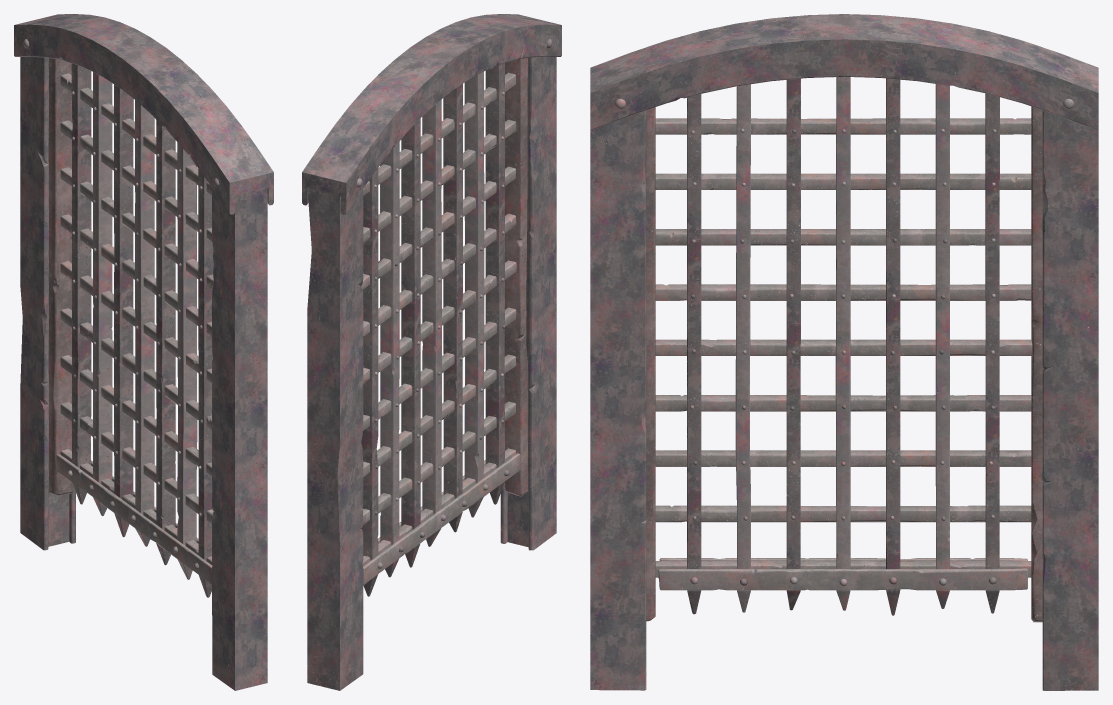
3 renders of one model, left to right at view 1: azimuth 30°, elevation 25°; view 2: azimuth 150°, elevation 25°; view 3: azimuth 270°, elevation 25°, orthographic. The views are drawn at different scales.
Parts seen in each view (by area): view 1: SM_Castle_Gate_01v2_LOD0; view 2: SM_Castle_Gate_01v2_LOD0; view 3: SM_Castle_Gate_01v2_LOD0.
Part boxes in pixels (left/top/right/bottom): SM_Castle_Gate_01v2_LOD0: left=14, top=14, right=273, bottom=690; SM_Castle_Gate_01v2_LOD0: left=302, top=14, right=561, bottom=690; SM_Castle_Gate_01v2_LOD0: left=590, top=14, right=1098, bottom=690.
Size of the model in its own units: 0.972 by 10.45 by 7.35.
1 material, 1 textured.
